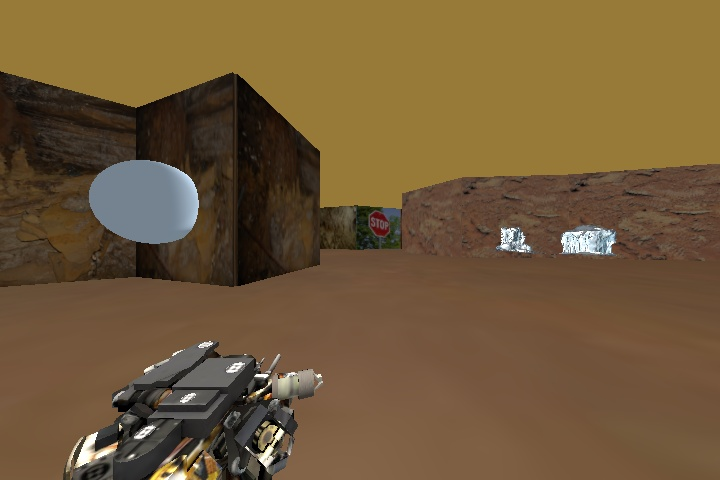mushroom: (561, 224, 617, 254), (498, 226, 530, 253)
sign: (368, 211, 392, 237)
sphere: (88, 158, 200, 245)
